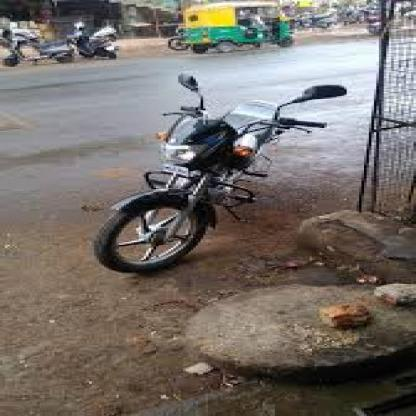bike: (90, 70, 308, 278)
